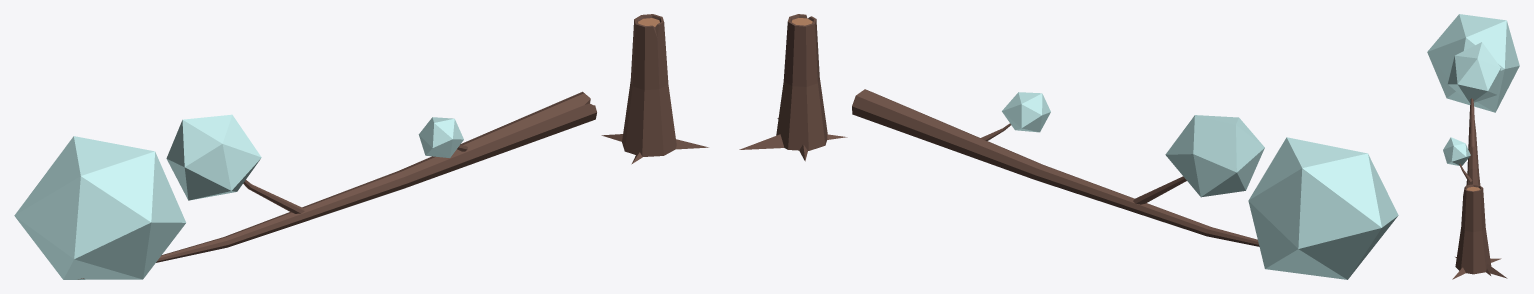
The model's file is WinterFallenTree_02.fbx.
3 views of the same model, side by side, from view 1: azimuth 30°, elevation 25°; view 2: azimuth 150°, elevation 25°; view 3: azimuth 270°, elevation 25° (orthographic). The views are drawn at different scales.
Visible parts, largest first — view 1: WinterFallenTree_02; view 2: WinterFallenTree_02; view 3: WinterFallenTree_02.
Boxes of the visible parts, left/top/right/bottom form: WinterFallenTree_02: left=14, top=14, right=708, bottom=279; WinterFallenTree_02: left=739, top=14, right=1398, bottom=279; WinterFallenTree_02: left=1427, top=14, right=1519, bottom=279.
Size of the model in its own units: 1097 by 210 by 211.
